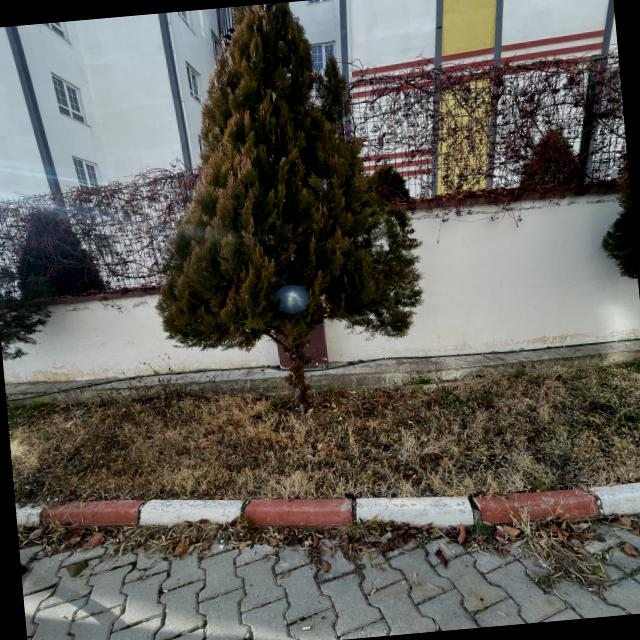balloon: (273, 284, 309, 313)
